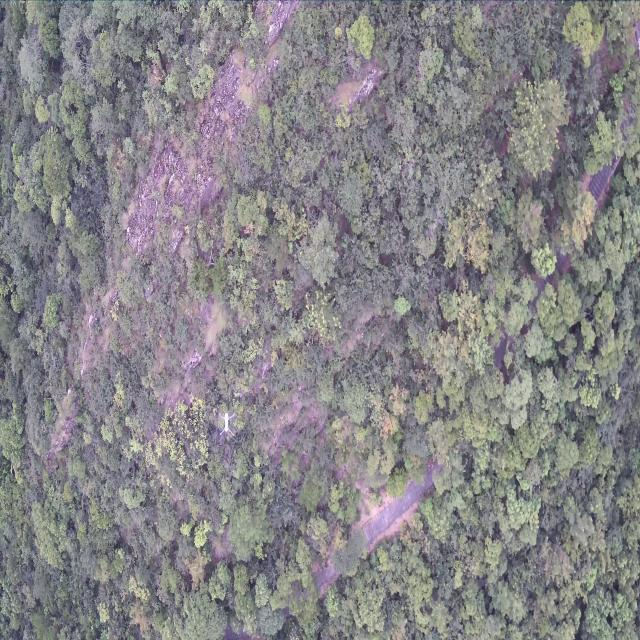UAV: (218, 412, 235, 437)
